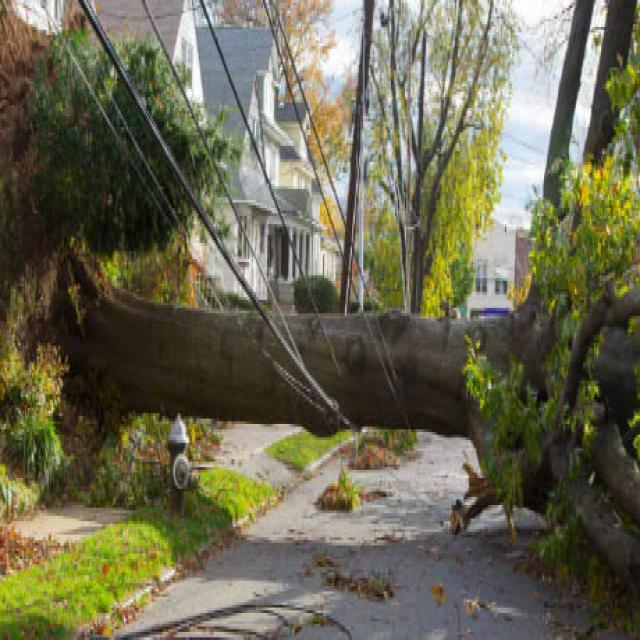fallen_tree: (19, 231, 638, 461)
